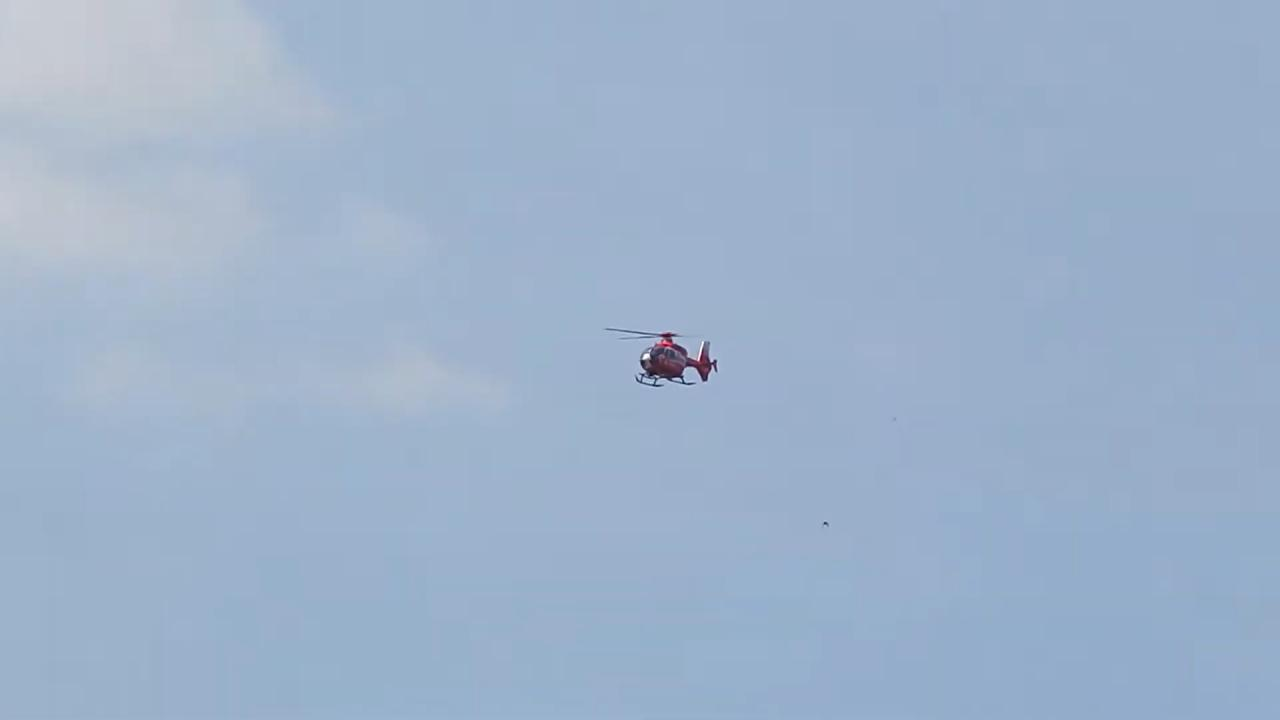Helicopter: (587, 306, 747, 413)
